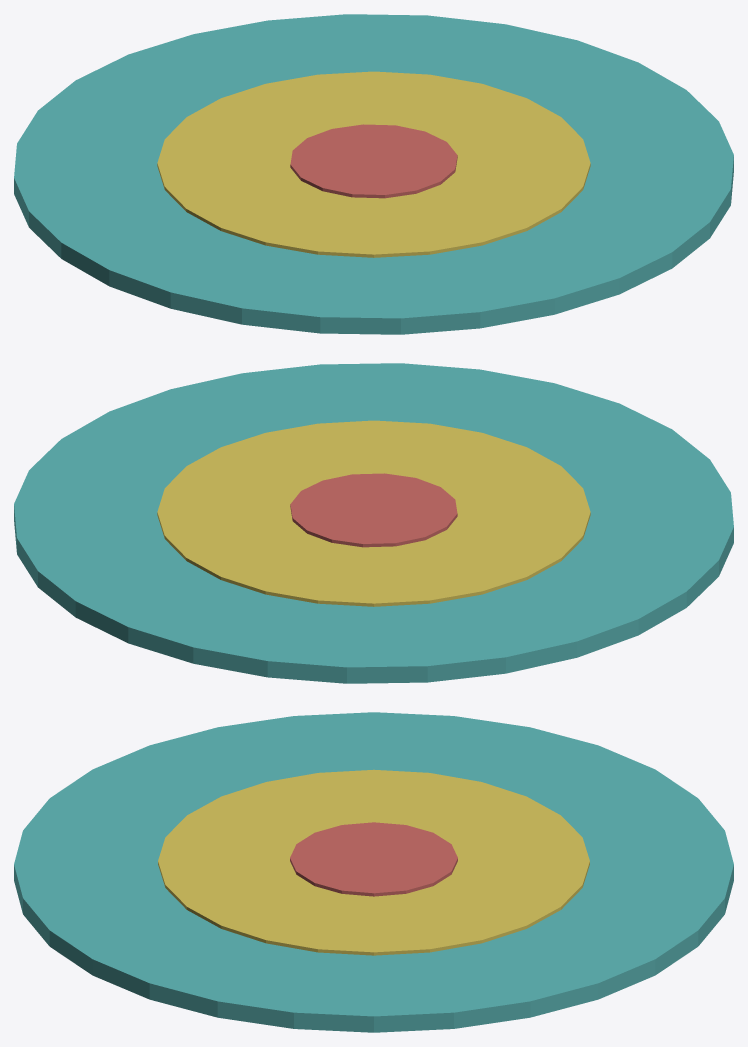
Rendered from kids_tapete.glb.
3 renders of one model, top to bottom at view 1: azimuth 30°, elevation 25°; view 2: azimuth 150°, elevation 25°; view 3: azimuth 270°, elevation 25°, orthographic.
Visible parts, largest first — view 1: KIDS_Tapete_v01; view 2: KIDS_Tapete_v01; view 3: KIDS_Tapete_v01.
Boxes of the visible parts, <box> form: KIDS_Tapete_v01: <box>14,14,733,334</box>; KIDS_Tapete_v01: <box>14,363,733,683</box>; KIDS_Tapete_v01: <box>14,712,733,1032</box>.
Bounding box in the file's own units: 1.2 × 0.042 × 1.2.
